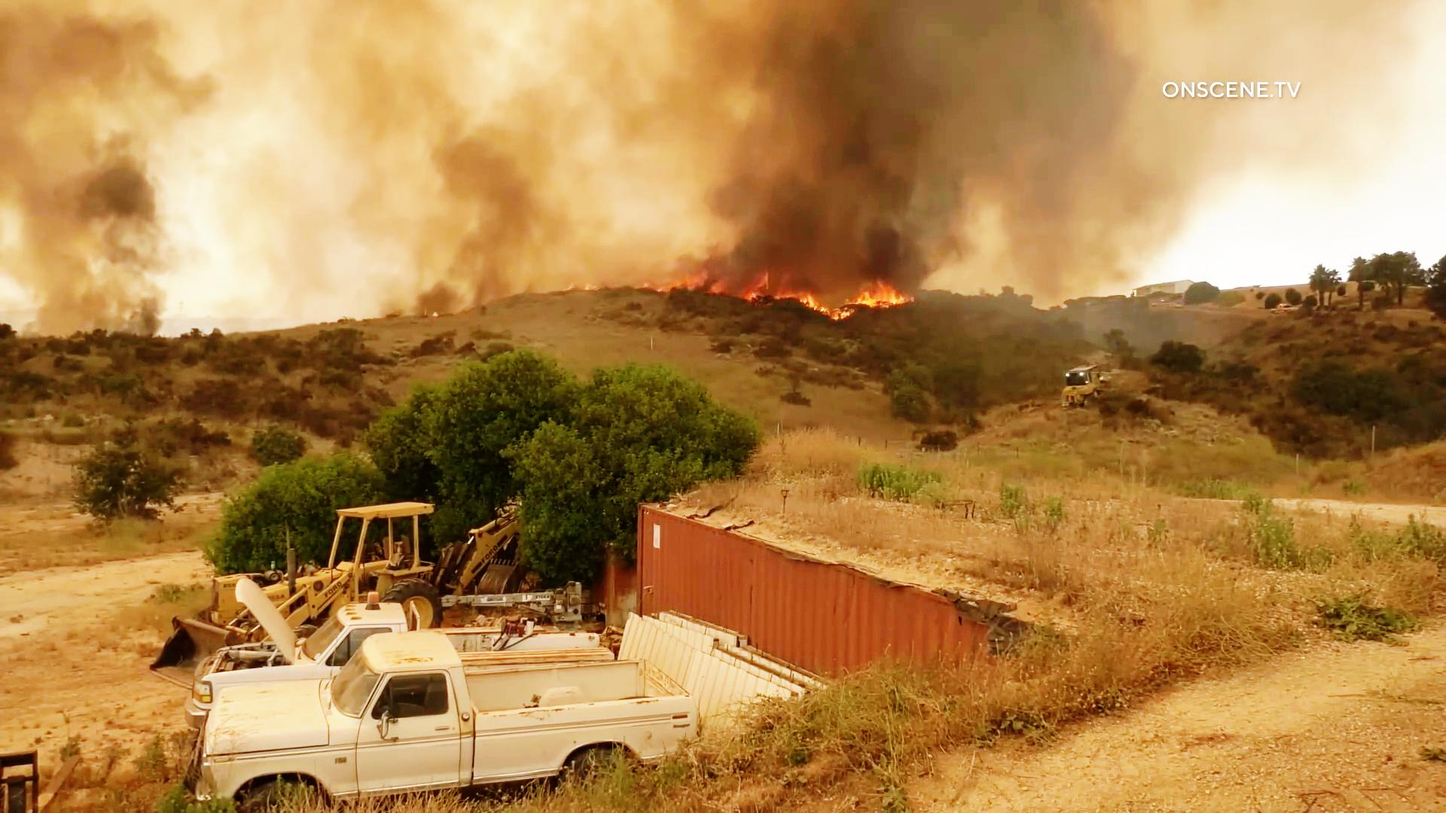fire: (868, 281, 913, 317)
smoke: (767, 14, 953, 253)
